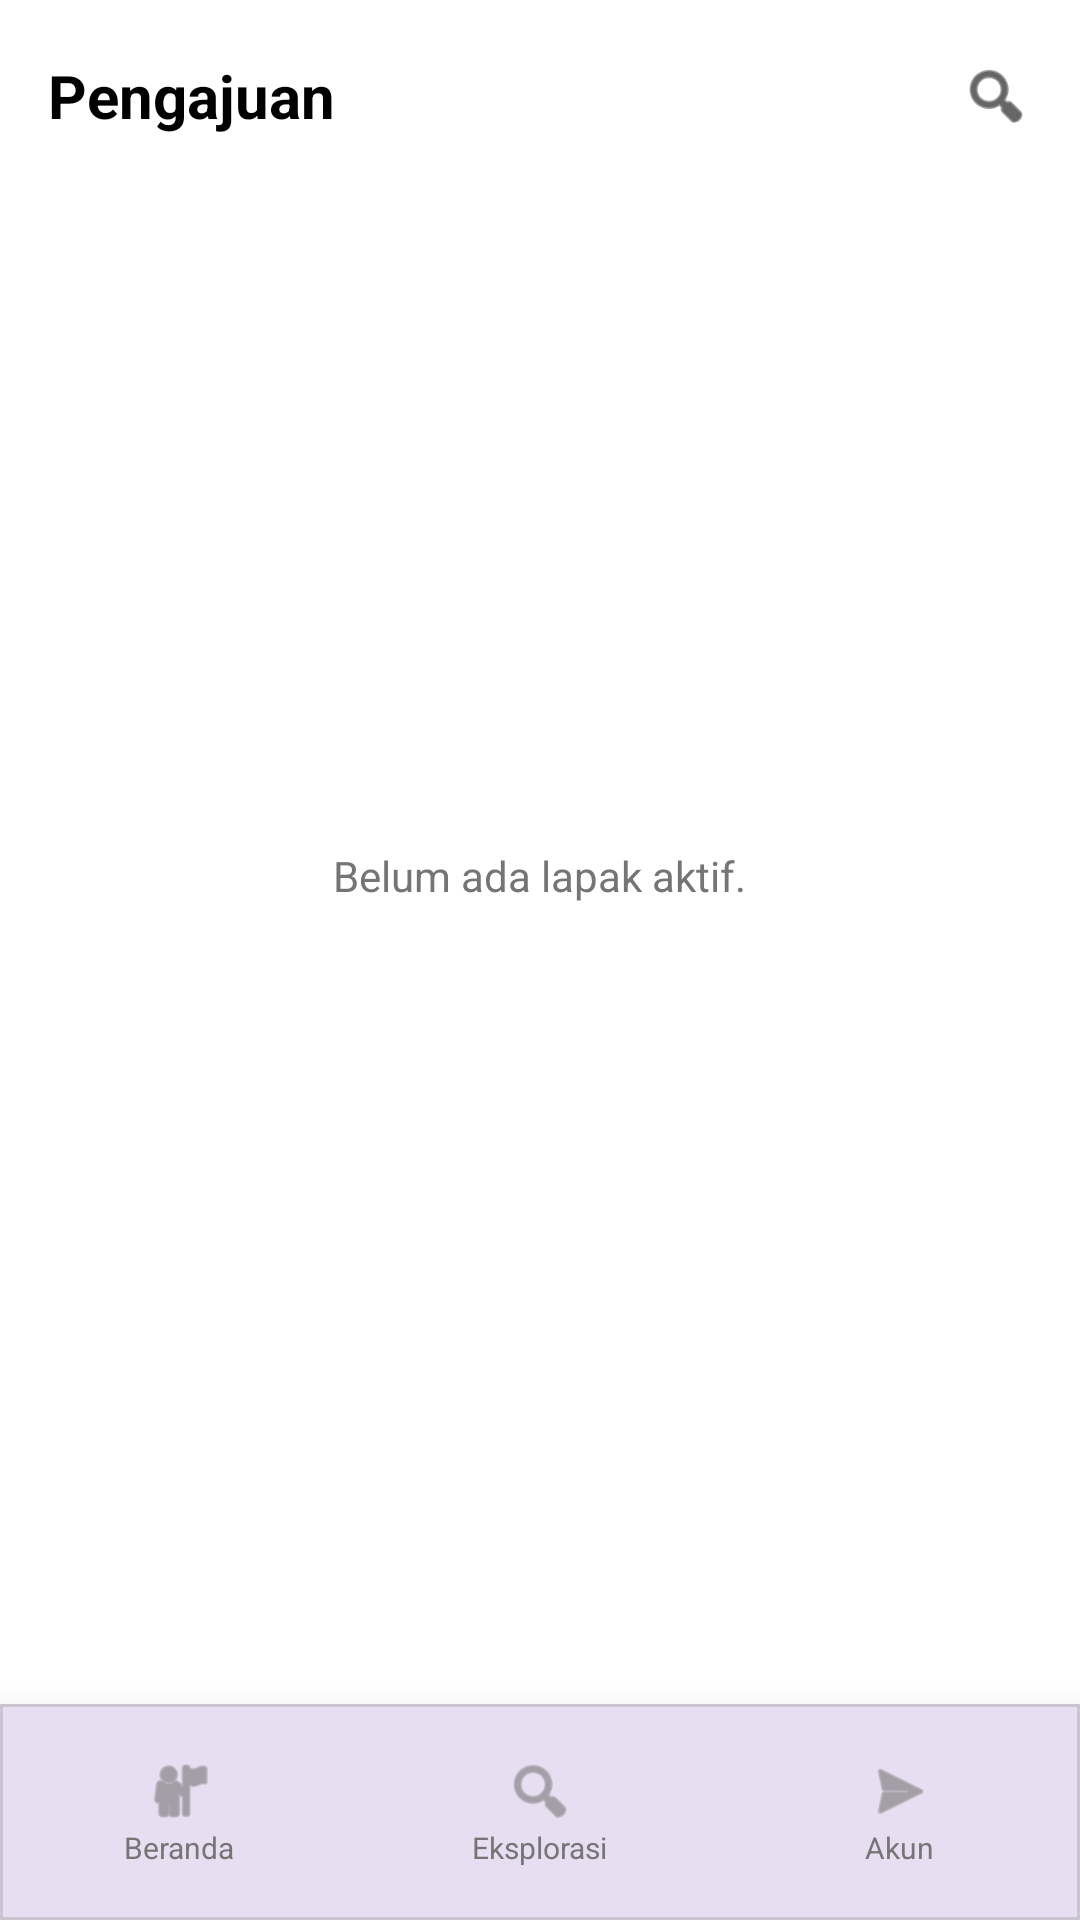

Locate icon controls on the screen. Image size 1080 x 1920, boxes as [left=x1, top=y1, right=x2, bottom=y2].
myplaces: [left=154, top=1764, right=208, bottom=1818]
search: [left=969, top=70, right=1023, bottom=123], [left=514, top=1765, right=566, bottom=1818]
send: [left=878, top=1769, right=923, bottom=1814]
